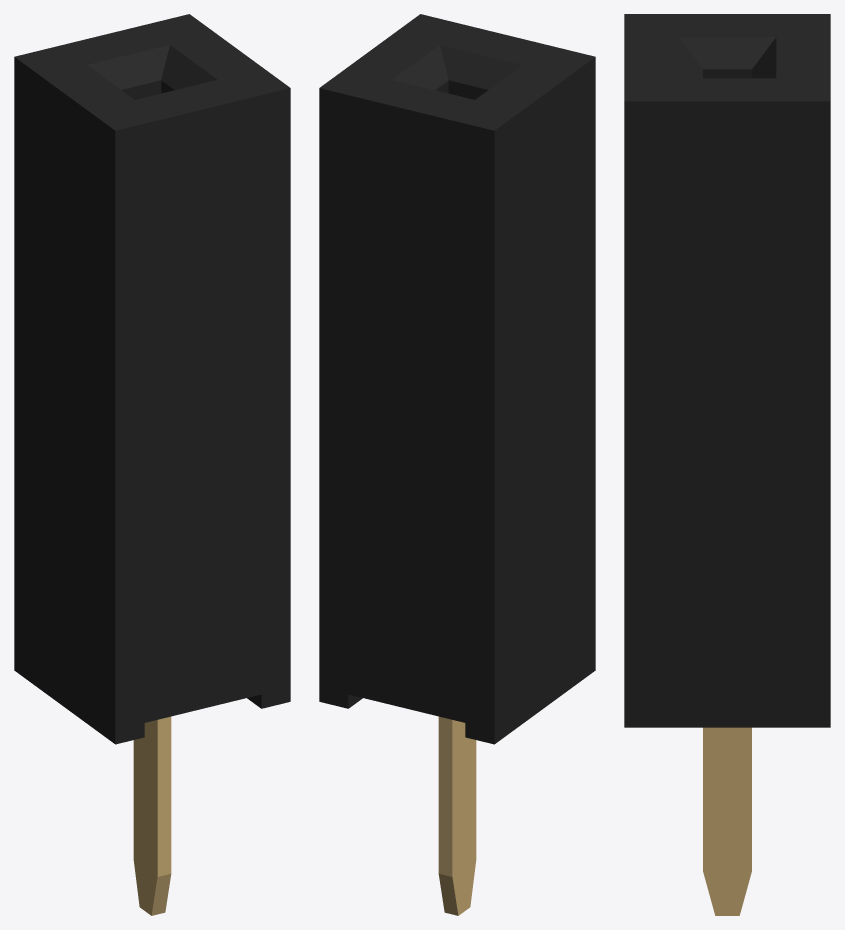
Rendered from kc-pinsocket_1x01_p2.54mm_vertical.glb.
3 renders of one model, left to right at view 1: azimuth 30°, elevation 25°; view 2: azimuth 150°, elevation 25°; view 3: azimuth 270°, elevation 25°, orthographic. The views are drawn at different scales.
Visible parts, largest first — view 1: 0_0_0_0, 0.75_0.5_0.25_0.9; view 2: 0_0_0_0, 0.75_0.5_0.25_0.9; view 3: 0_0_0_0, 0.75_0.5_0.25_0.9.
Part boxes in pixels (bbox=[...]): 0_0_0_0: bbox=[14, 14, 290, 744]; 0.75_0.5_0.25_0.9: bbox=[133, 716, 171, 915]; 0_0_0_0: bbox=[319, 14, 595, 744]; 0.75_0.5_0.25_0.9: bbox=[438, 716, 476, 915]; 0_0_0_0: bbox=[624, 14, 830, 727]; 0.75_0.5_0.25_0.9: bbox=[703, 727, 751, 915].
Bounding box in the file's own units: 0.254 × 1.16 × 0.254.
